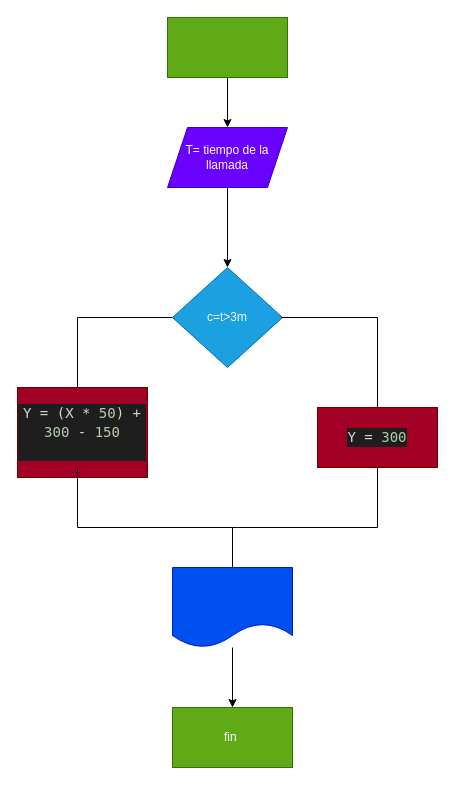
Some shapes in this 455 by 785 pixel diagram are drawn without their labels. The box of each missing label's shape, as (x1, y1, x2, y2) in pixels:
El gasto de la llamada: (172, 566, 292, 648)
inicio: (166, 16, 288, 78)
